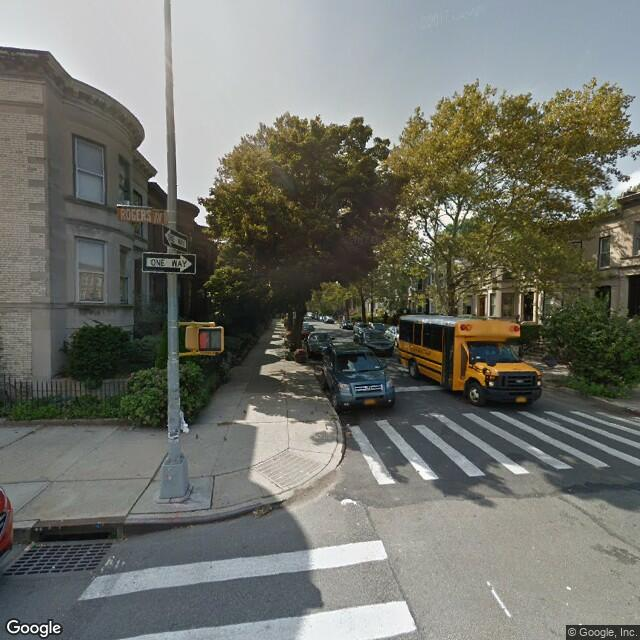litter: (249, 504, 277, 519), (338, 494, 362, 508), (23, 544, 33, 554), (51, 563, 55, 570)
